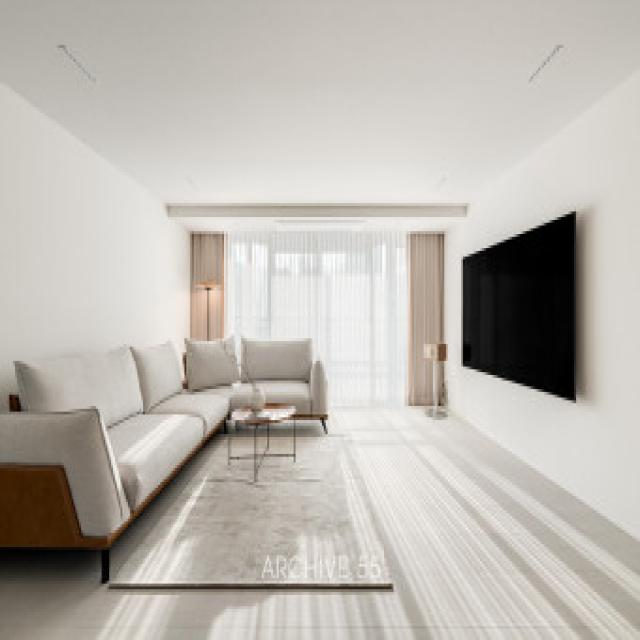Sofa: (2, 330, 330, 559)
Table: (229, 386, 301, 470)
tv: (458, 213, 578, 403)
window: (187, 228, 445, 360)
